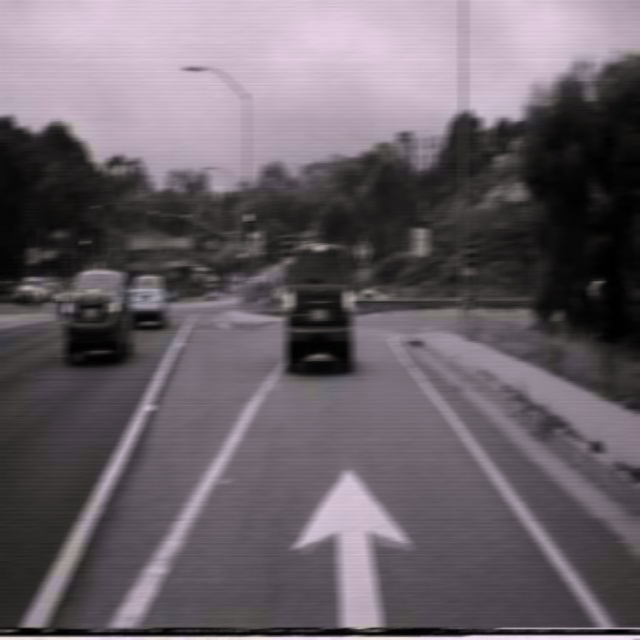noRightTurn: (249, 230, 261, 254)
signalAhead: (354, 235, 370, 268)
